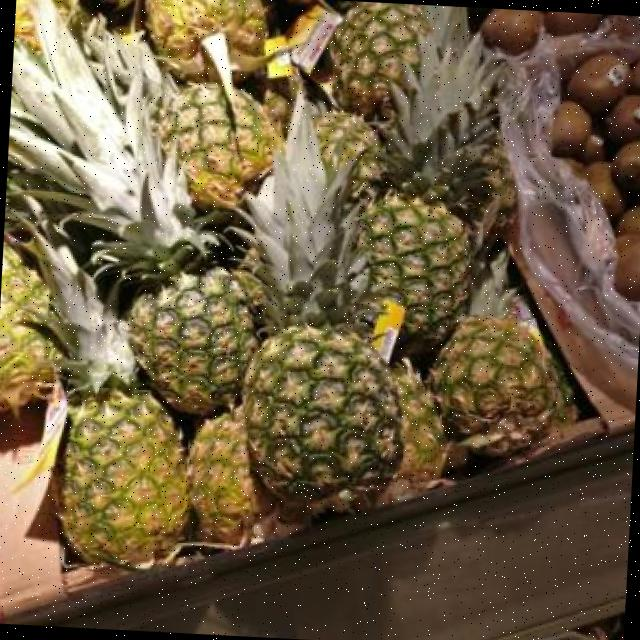pineapple: (9, 0, 256, 441), (244, 91, 402, 499), (32, 228, 188, 564), (429, 317, 577, 458), (385, 6, 495, 194), (363, 195, 469, 366), (163, 84, 280, 208), (334, 2, 427, 118), (0, 243, 58, 412), (189, 406, 256, 544), (148, 0, 266, 58), (393, 359, 445, 480), (314, 112, 383, 196)
